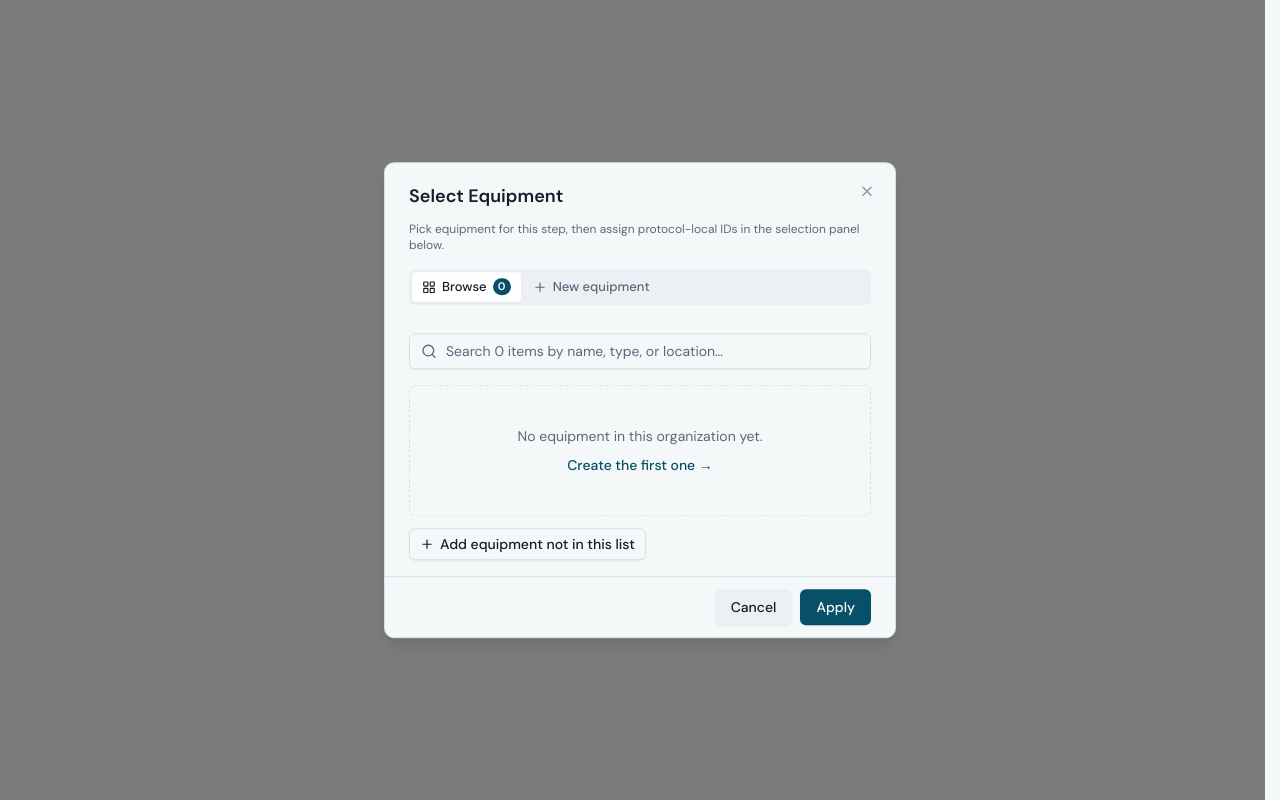
EquipmentPickerModal tabs (pick mode) › clicking the "New equipment" tab swaps to the create form
Click the tab "New equipment": coordinates (591, 287) [523,272,660,302]
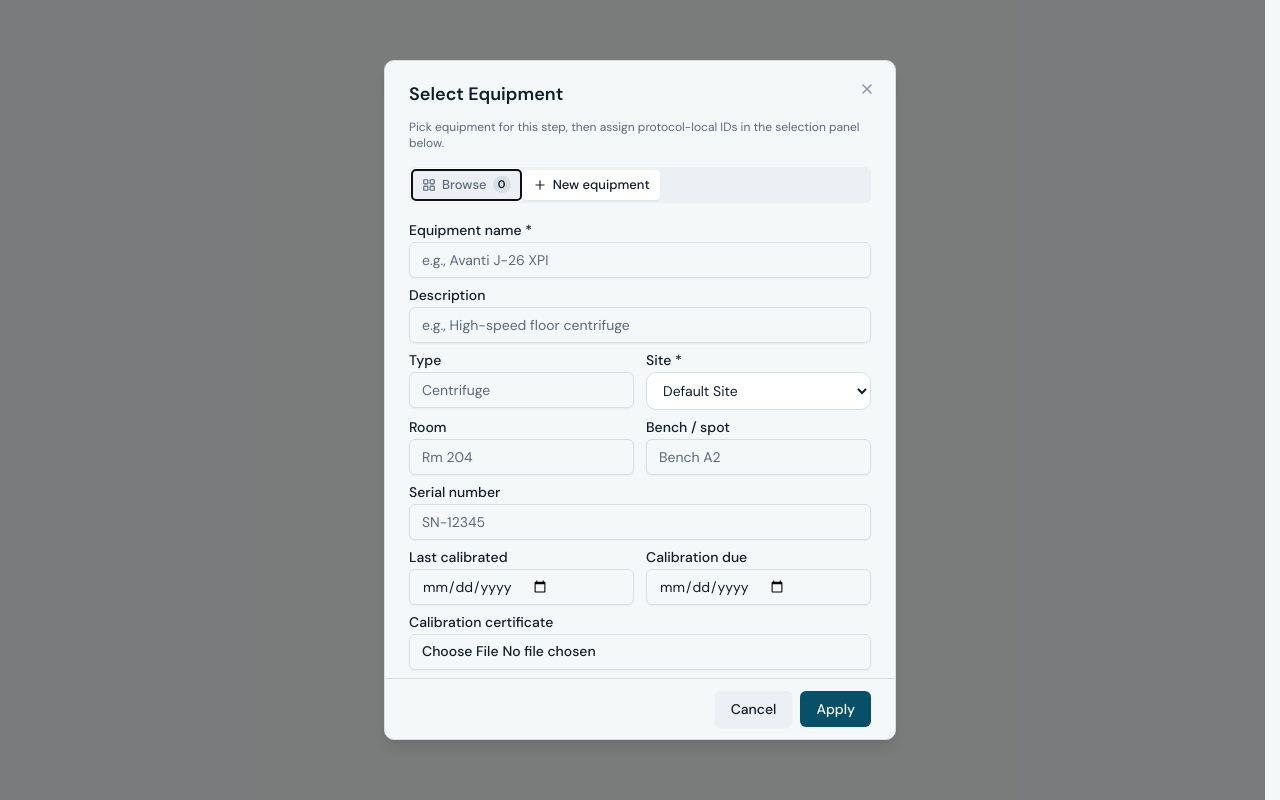
expect the element with class "create-form" is shown: met, box [409,222,871,678]
